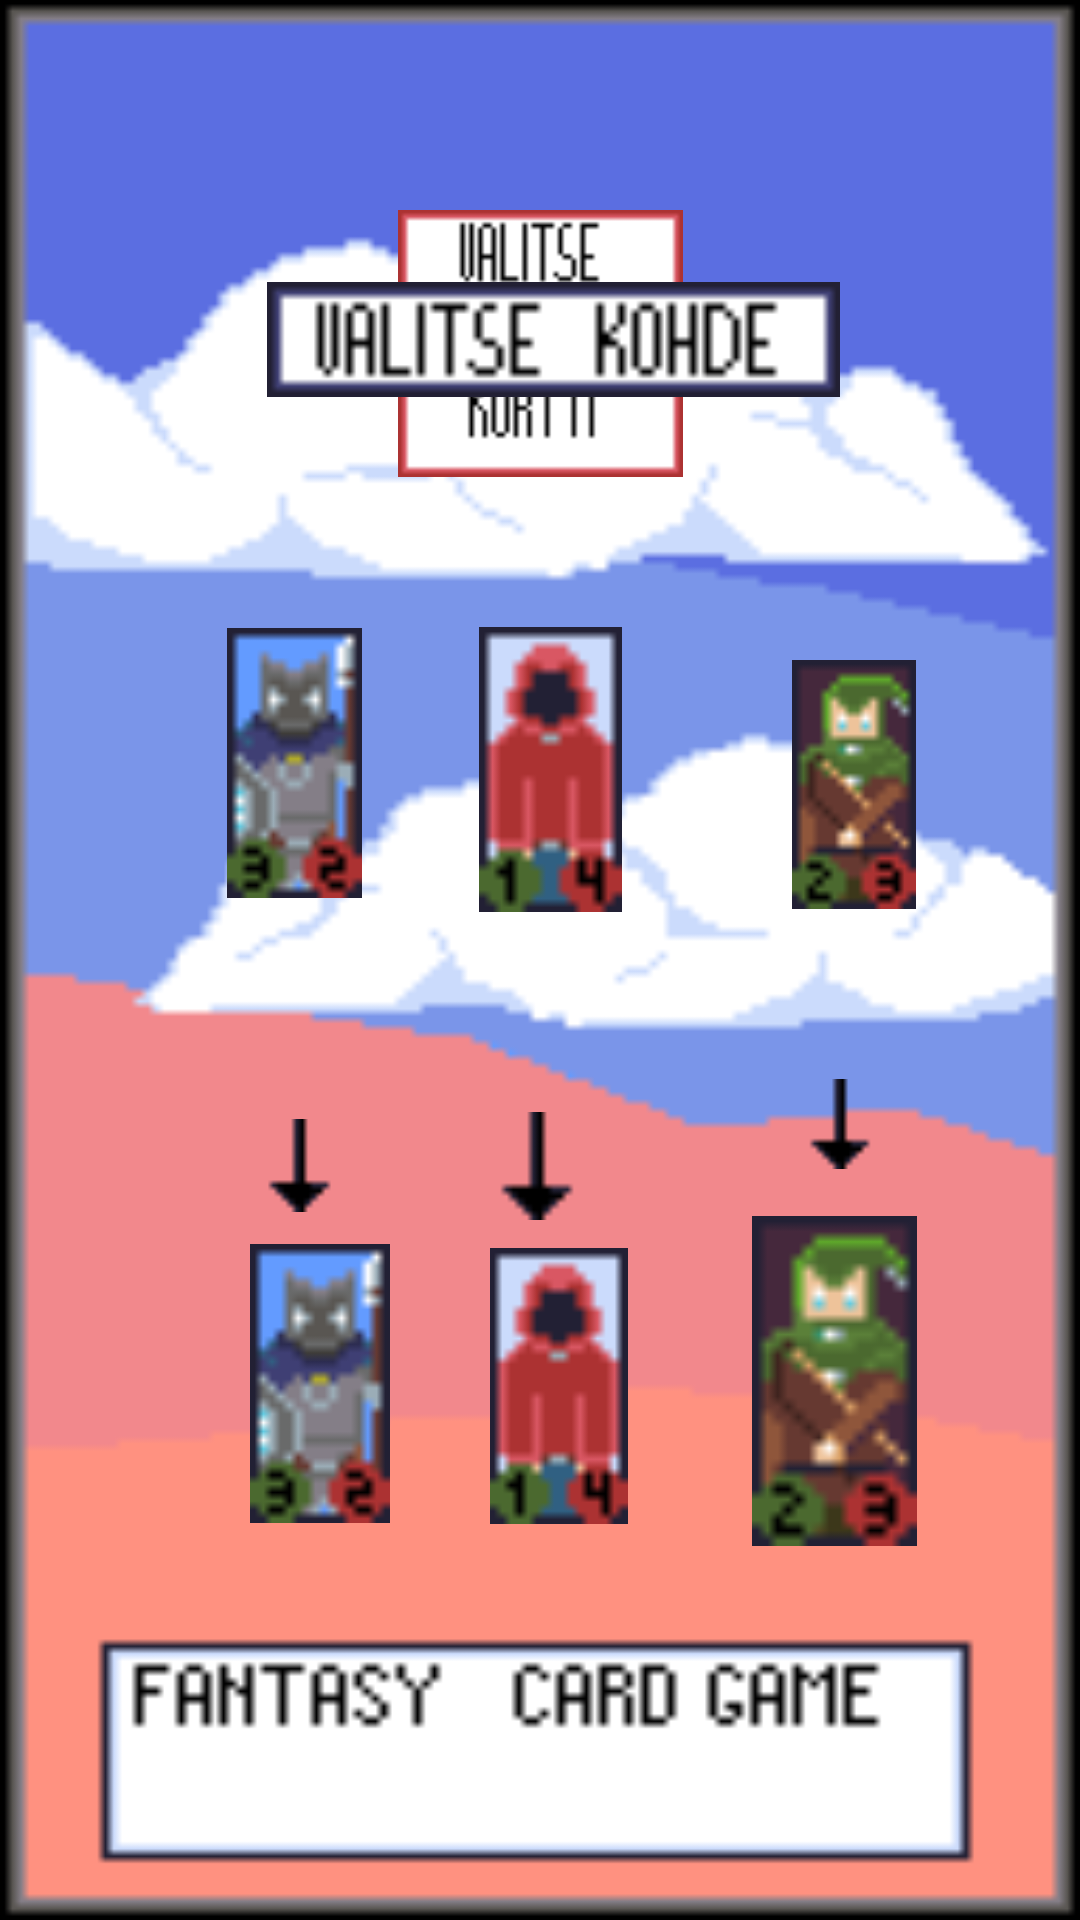

Icon click points for this 1080px x 1920px phone screenshot, format (x=x, y=y):
alasnuoli: (x=840, y=1124), (x=537, y=1166), (x=299, y=1165)
knight: (x=299, y=763), (x=320, y=1383)
maagi: (x=550, y=769), (x=559, y=1386)
ranger: (x=854, y=784), (x=834, y=1381)
